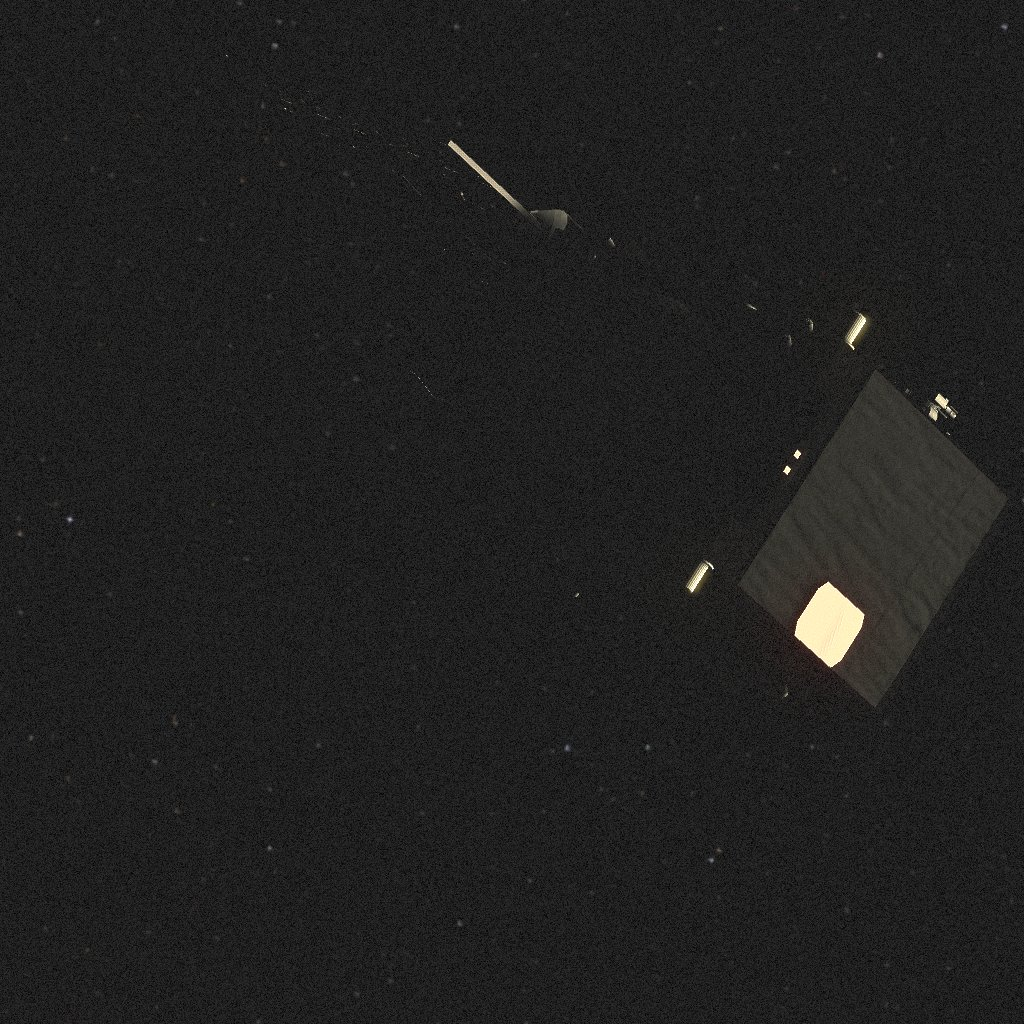proba_3_csc: (222, 48, 1024, 741)
